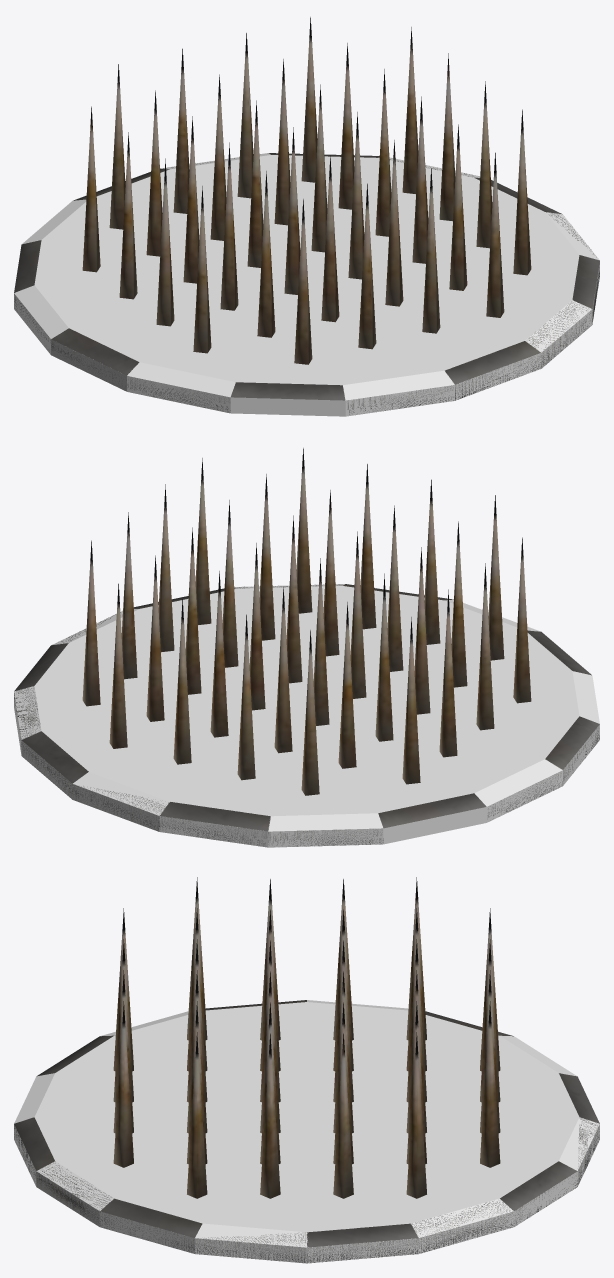
The model's file is spike_grate.low.webp.glb.
3 views of the same model, one above another, from view 1: azimuth 30°, elevation 25°; view 2: azimuth 150°, elevation 25°; view 3: azimuth 270°, elevation 25° (orthographic).
Visible parts, largest first — view 1: COL, LOD1_SPIKES, LOD1_body; view 2: COL, LOD1_SPIKES, LOD1_body; view 3: COL, LOD1_SPIKES, LOD1_body.
Part boxes in pixels (<box>): COL: <box>14,153,599,416</box>; LOD1_SPIKES: <box>82,17,531,364</box>; LOD1_body: <box>14,153,599,414</box>; COL: <box>14,584,599,847</box>; LOD1_SPIKES: <box>82,448,531,795</box>; LOD1_body: <box>14,584,599,846</box>; COL: <box>14,1000,599,1263</box>; LOD1_SPIKES: <box>113,877,500,1198</box>; LOD1_body: <box>14,1000,599,1263</box>.
Size of the model in its own units: 2 by 0.7 by 2.
1 material, 1 textured.
